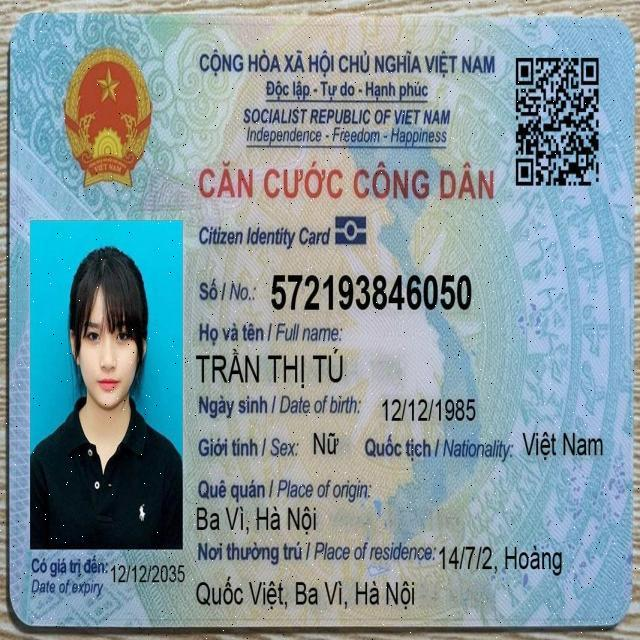current_place: (194, 572, 416, 614), (437, 540, 564, 580)
dob: (378, 393, 478, 426)
expire_date: (109, 561, 188, 587)
gender: (311, 429, 341, 459)
id: (268, 268, 475, 316)
name: (193, 344, 346, 392)
nationality: (520, 427, 605, 465)
origin_place: (194, 502, 319, 538)
qr: (513, 50, 604, 194)
